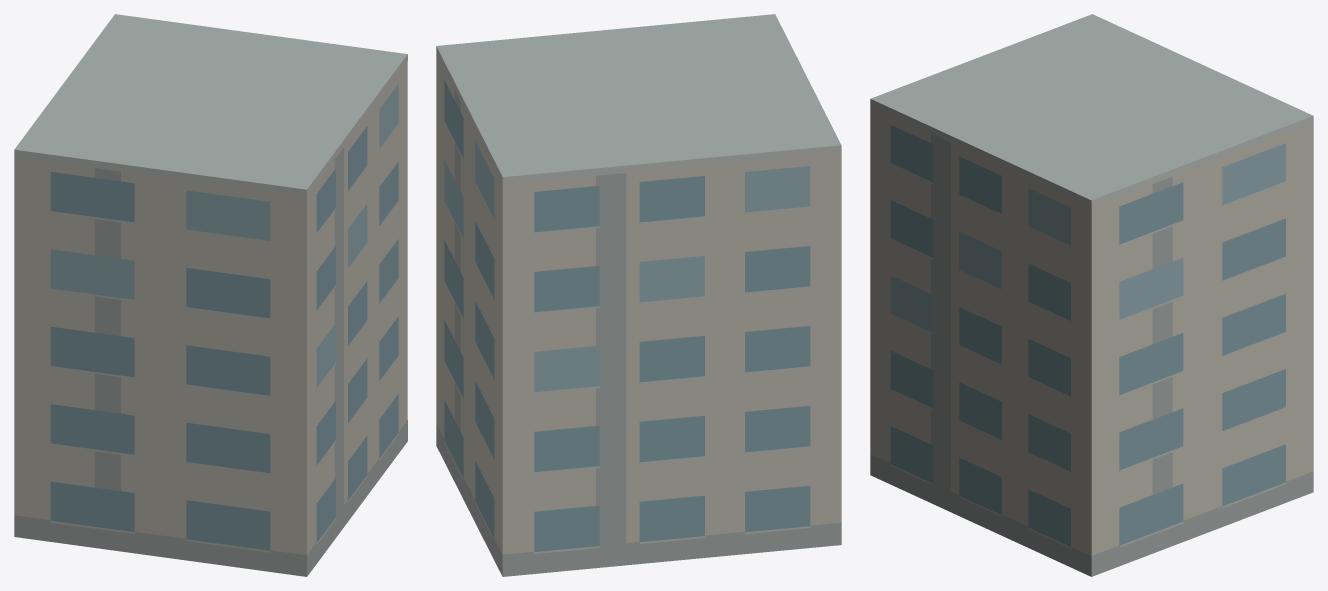
File: survey-upis-33044785.glb
3 views of the same model, side by side, from view 1: azimuth 30°, elevation 25°; view 2: azimuth 150°, elevation 25°; view 3: azimuth 270°, elevation 25° (orthographic). The views are drawn at different scales.
Parts seen in each view (by area): view 1: survey-upis-33044785.tmp; view 2: survey-upis-33044785.tmp; view 3: survey-upis-33044785.tmp.
Boxes of the visible parts, x1,y1,x2,y2 form: survey-upis-33044785.tmp: [14, 14, 407, 576]; survey-upis-33044785.tmp: [436, 14, 841, 576]; survey-upis-33044785.tmp: [870, 14, 1313, 576].
Bounding box in the file's own units: 14.03 × 13.2 × 14.09.
